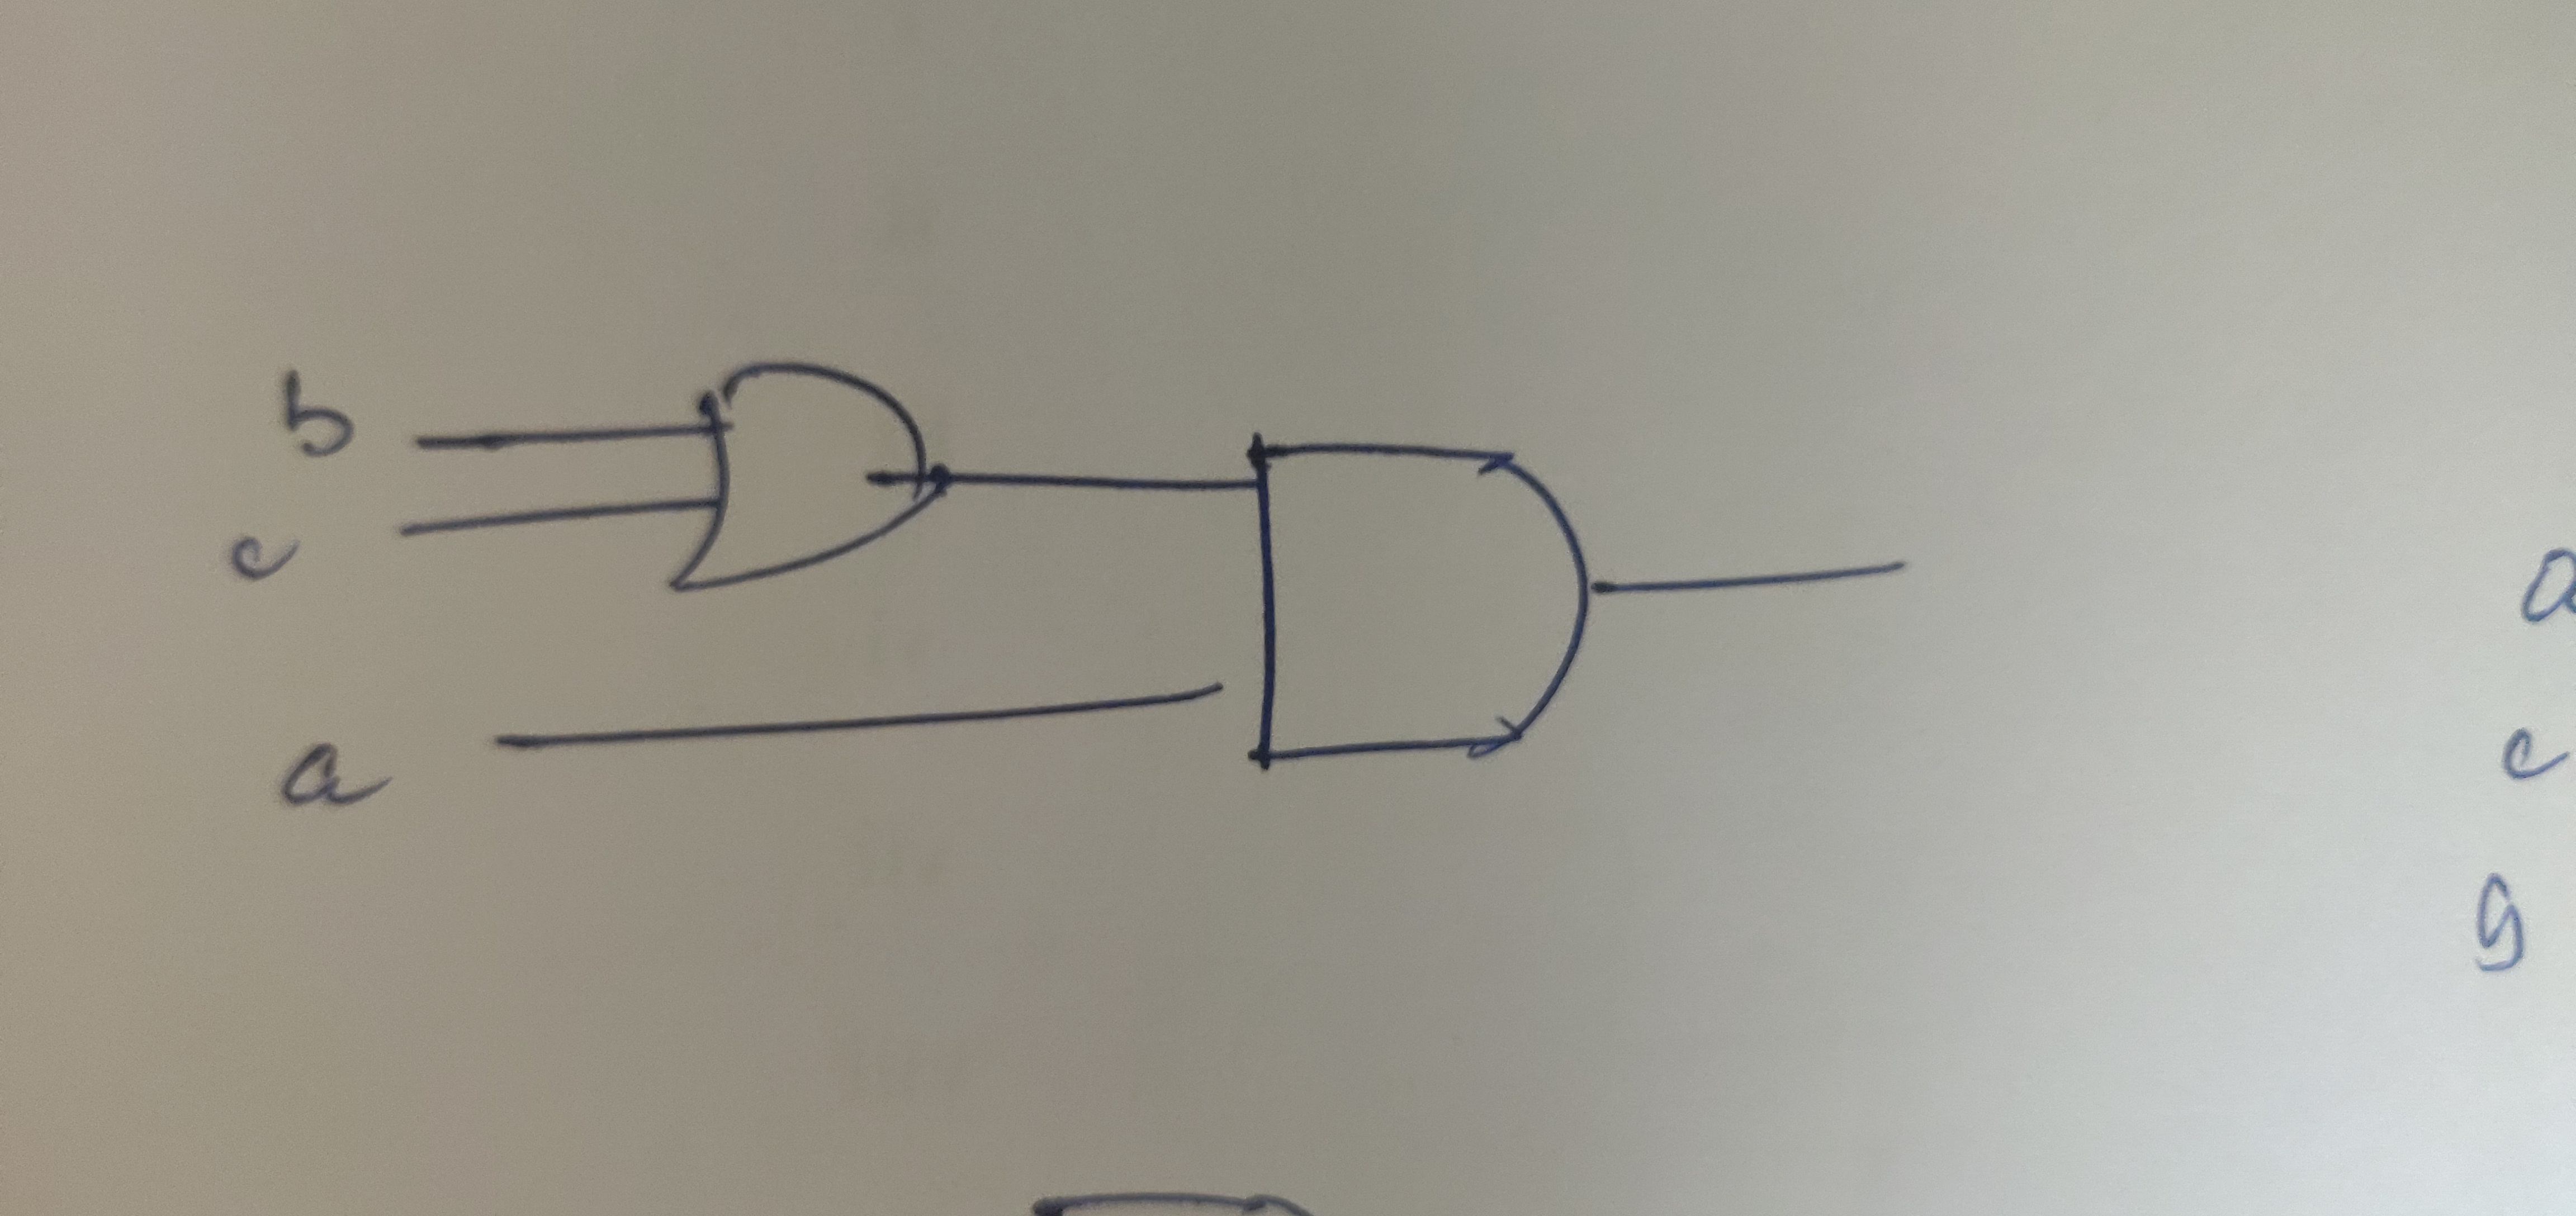and: (1160, 385, 1653, 841)
or: (626, 325, 978, 638)
